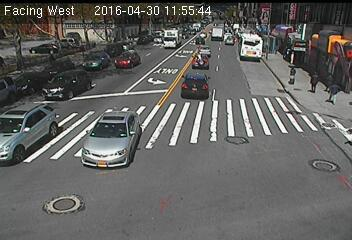neg: (159, 142, 194, 188), (52, 167, 87, 213), (10, 135, 44, 181), (77, 88, 107, 128), (170, 61, 200, 100), (307, 151, 336, 190), (232, 32, 261, 70), (138, 95, 166, 134), (93, 42, 119, 77), (274, 111, 298, 143), (224, 99, 248, 130), (215, 165, 237, 195), (41, 54, 61, 80)
pos: (307, 70, 325, 93), (286, 67, 302, 88), (329, 82, 344, 102), (322, 69, 336, 88)
